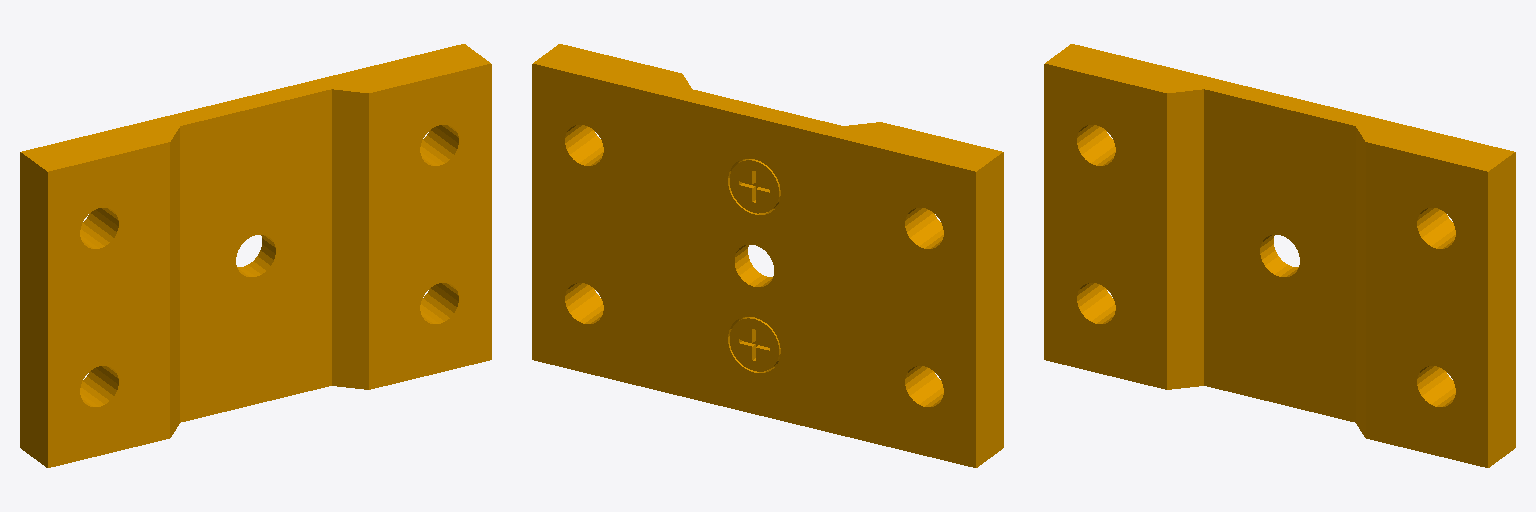
robot.urdf — single_leg_slider:
<?xml version="1.0" ?>
<robot name="single_leg_slider">

<material name="silver">
  <color rgba="0.700 0.700 0.700 1.000"/>
</material>

<link name="base_link">
  <inertial>
    <origin rpy="0 0 0" xyz="-3.990427393873797e-17 0.017181020857184464 0.023812500000040666"/>
    <mass value="0.05769202736020345"/>
    <inertia ixx="1.132974039132165e-05" ixy="3.852077002422306e-21" ixz="3.8369307730951804e-20" iyy="4.2825183177729086e-05" iyz="9.622294280808852e-19" izz="3.205678713491643e-05"/>
  </inertial>
  <visual>
    <origin rpy="0 0 0" xyz="0 0 0"/>
    <geometry>
      <mesh filename="meshes/base_link.stl" scale="0.001 0.001 0.001"/>
    </geometry>
    <material name="silver"/>
    <material/>
  </visual>
  <collision>
    <origin rpy="0 0 0" xyz="0 0 0"/>
    <geometry>
      <mesh filename="meshes/base_link.stl" scale="0.001 0.001 0.001"/>
    </geometry>
  </collision>
</link>

</robot>

--- Facts derived from the render (not from the file) ---
3 views of the same robot in one strip: view 1: azimuth 30°, elevation 25°; view 2: azimuth 150°, elevation 25°; view 3: azimuth 330°, elevation 25° (orthographic).
Robot: single_leg_slider — 1 links, 0 joints (none); root link base_link; default pose: all joints at 0.
Visible links, largest first — view 1: base_link; view 2: base_link; view 3: base_link.
Link boxes in pixels (x1,y1,x2,y2): base_link: (20,44,491,467); base_link: (532,44,1003,467); base_link: (1044,44,1515,467).
Size in the robot's own frame: 0.0746 by 0.0079 by 0.0476 metres.
Meshes: 1 distinct files referenced, 1 mesh visuals loaded (1 binary STL).